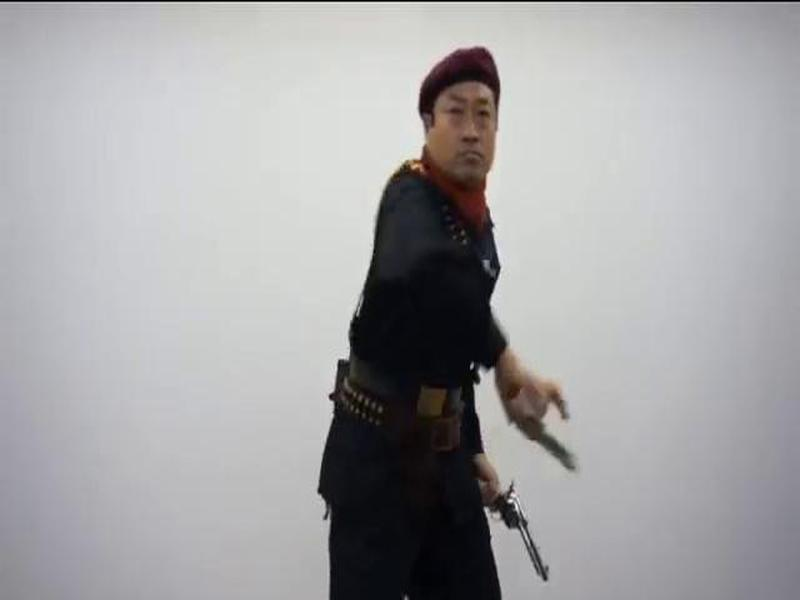Revolver: (478, 471, 564, 594)
